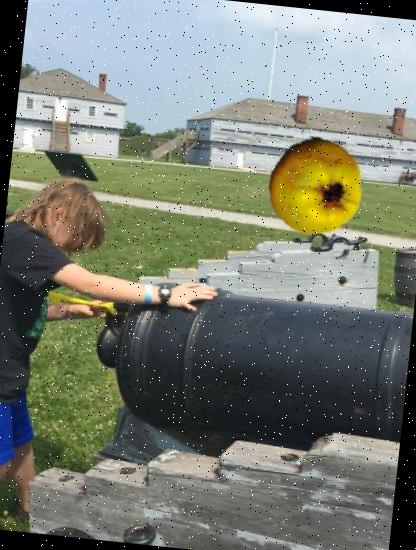Quince: (261, 132, 369, 240)
